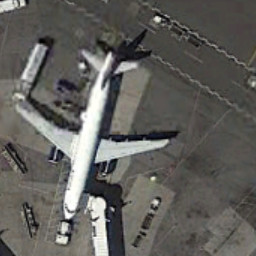Airplane: (13, 38, 172, 227)
